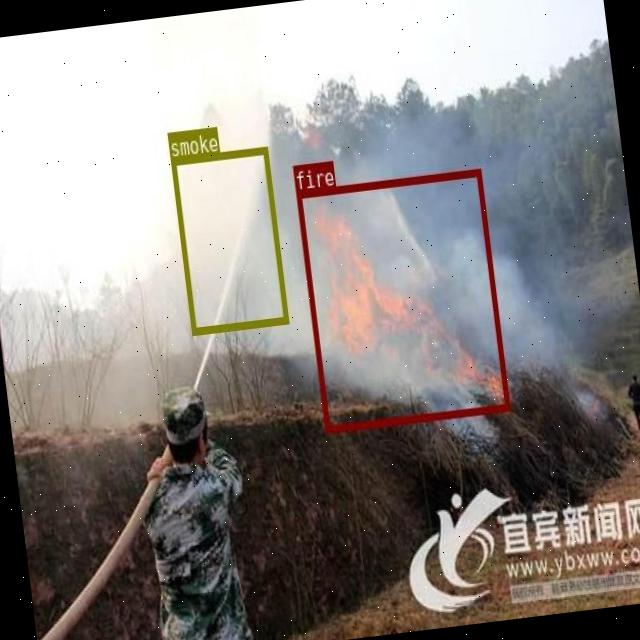fire: (296, 166, 508, 432)
smoke: (169, 146, 287, 334)
